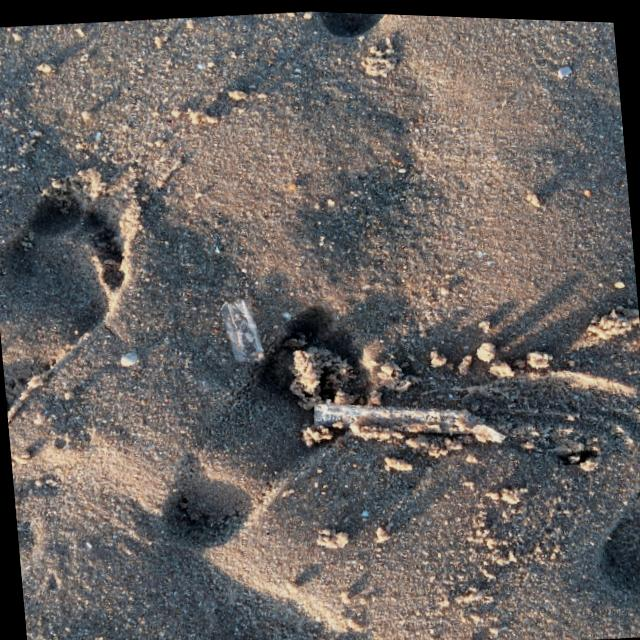Plastic: (304, 380, 506, 455), (209, 291, 273, 369)
